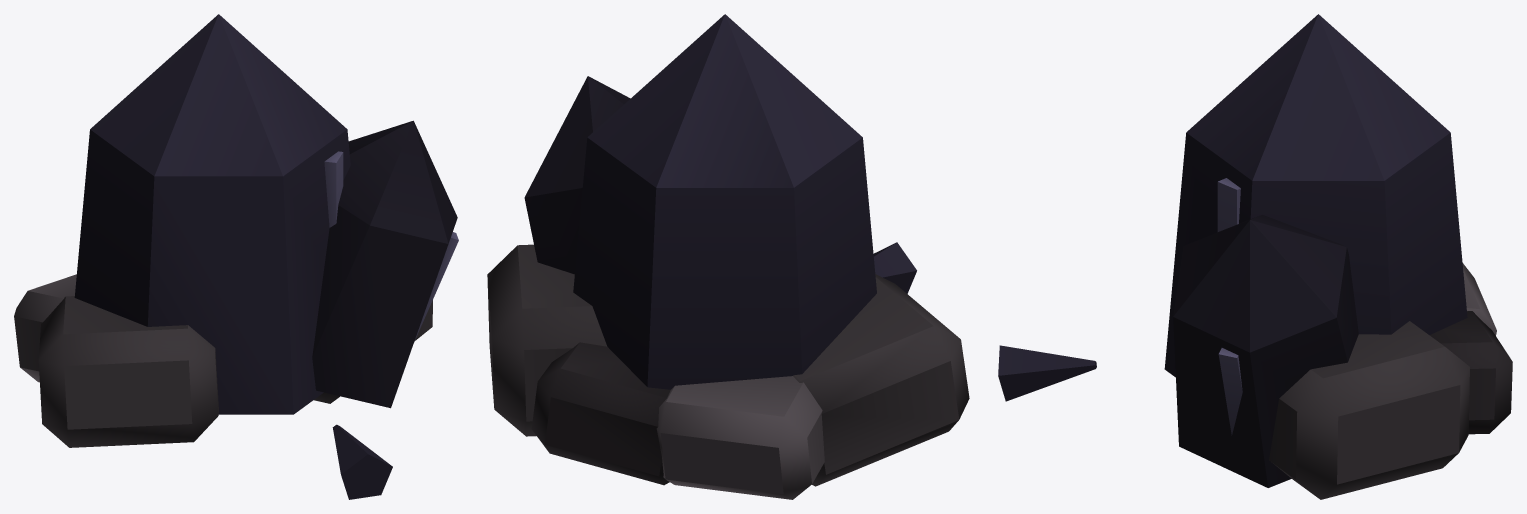
File: n_obsidian_3.glb
3 renders of one model, left to right at view 1: azimuth 30°, elevation 25°; view 2: azimuth 150°, elevation 25°; view 3: azimuth 270°, elevation 25°, orthographic. The views are drawn at different scales.
Parts seen in each view (by area): view 1: body; view 2: body; view 3: body.
Part boxes in pixels (x1=…): body: x1=14, y1=14, x2=458, y2=499; body: x1=487, y1=14, x2=969, y2=499; body: x1=998, y1=14, x2=1512, y2=499.
Bounding box in the file's own units: 1.14 × 1.04 × 1.2.
